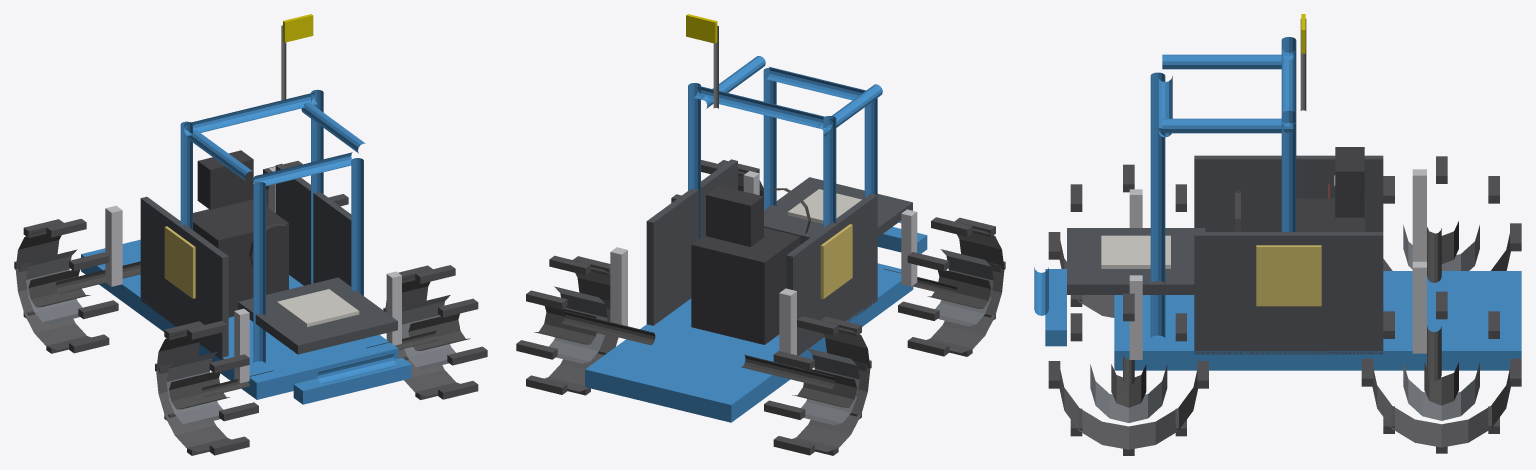
File: carro_baja.glb
The picture shows the model from 3 angles, left to right: view 1: azimuth 30°, elevation 25°; view 2: azimuth 150°, elevation 25°; view 3: azimuth 270°, elevation 25°; orthographic projection. The views are drawn at different scales.
Parts seen in each view (by area): view 1: Baja_13_Piratas_do_Vale; view 2: Baja_13_Piratas_do_Vale; view 3: Baja_13_Piratas_do_Vale.
Part boxes in pixels (x1,y1,x2,y2): Baja_13_Piratas_do_Vale: (14,14,487,455); Baja_13_Piratas_do_Vale: (516,14,1005,455); Baja_13_Piratas_do_Vale: (1034,14,1521,455).
Bounding box in the file's own units: 2.76 × 2.95 × 3.35.
